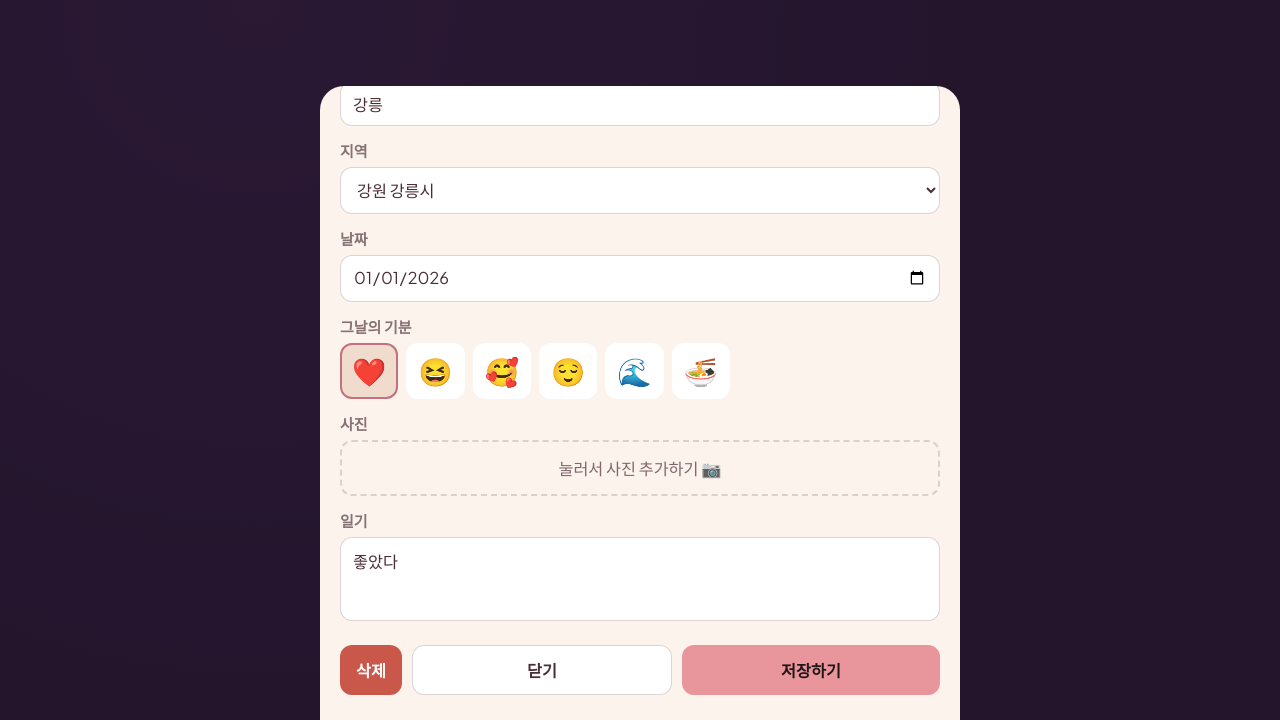
PlaceFormModal (existing place) › keeps the place when the delete question is answered with 취소
(page scrolled)
Click the button "삭제" at point(371, 670), box [340,645,402,695]
(page scrolled)
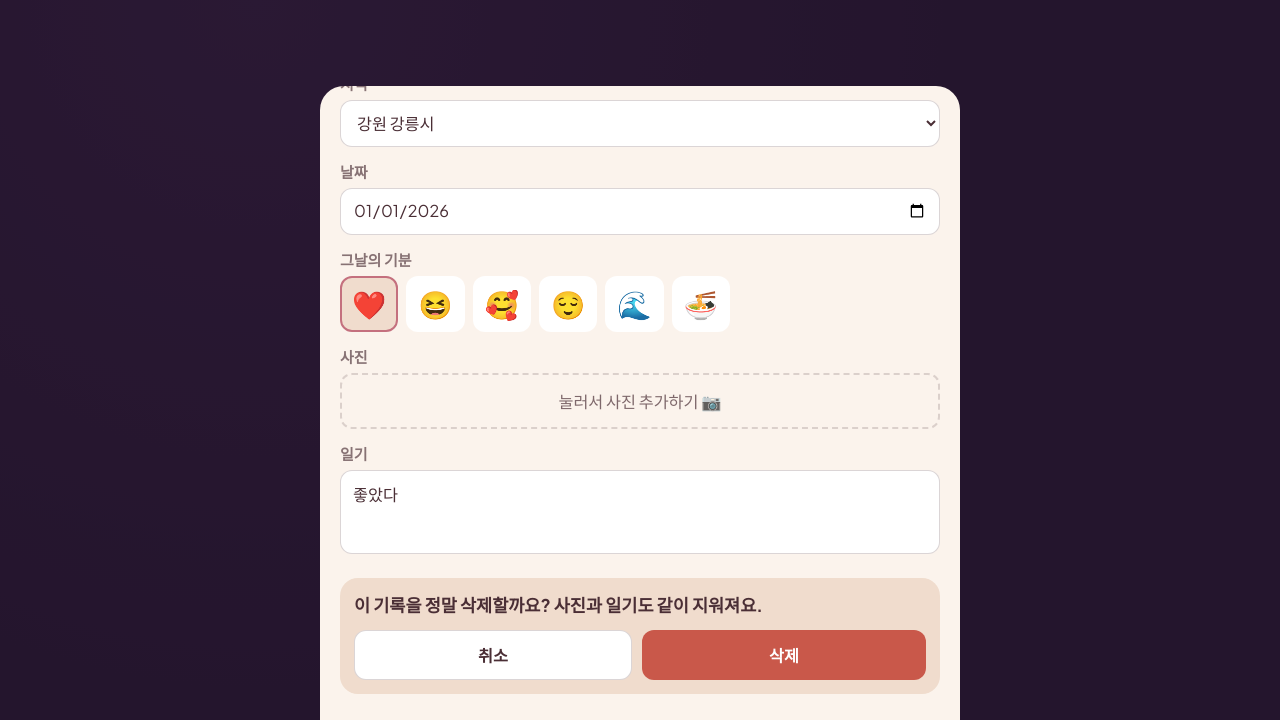
Click the button "취소" at point(493, 655), box [354,630,632,680]
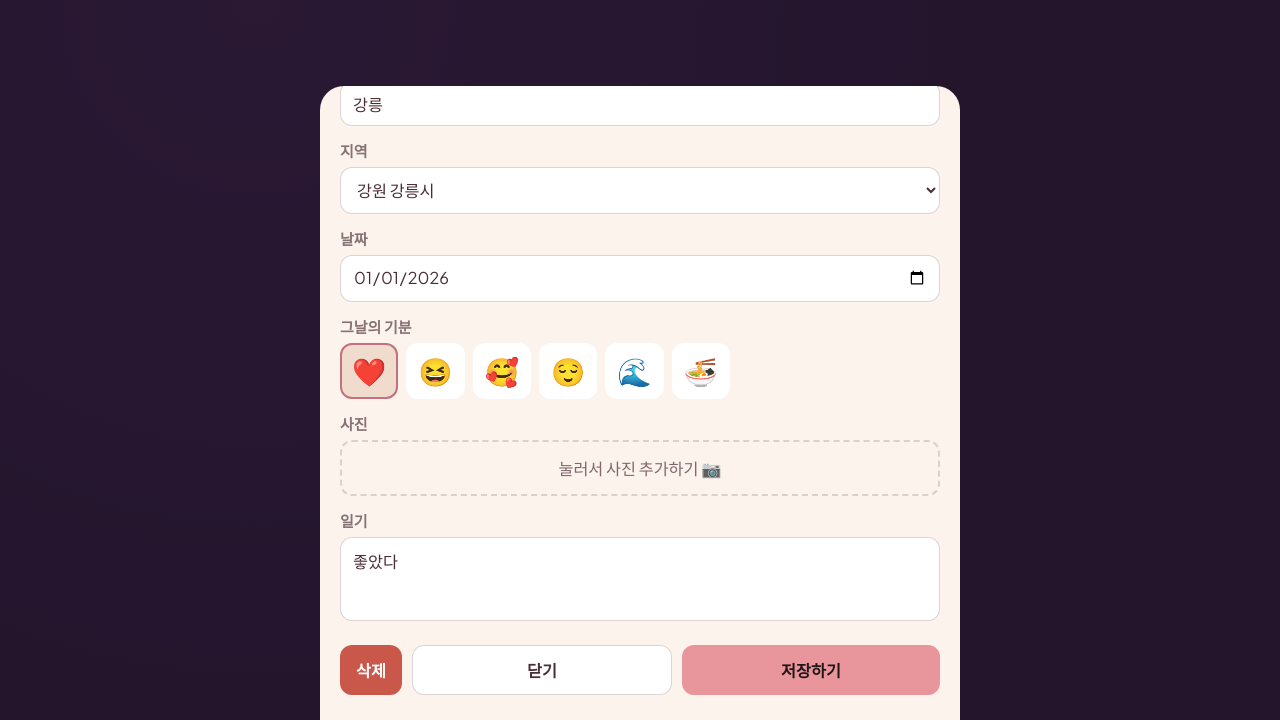
Expected: the button "저장하기" is shown, [682,645,940,695]
